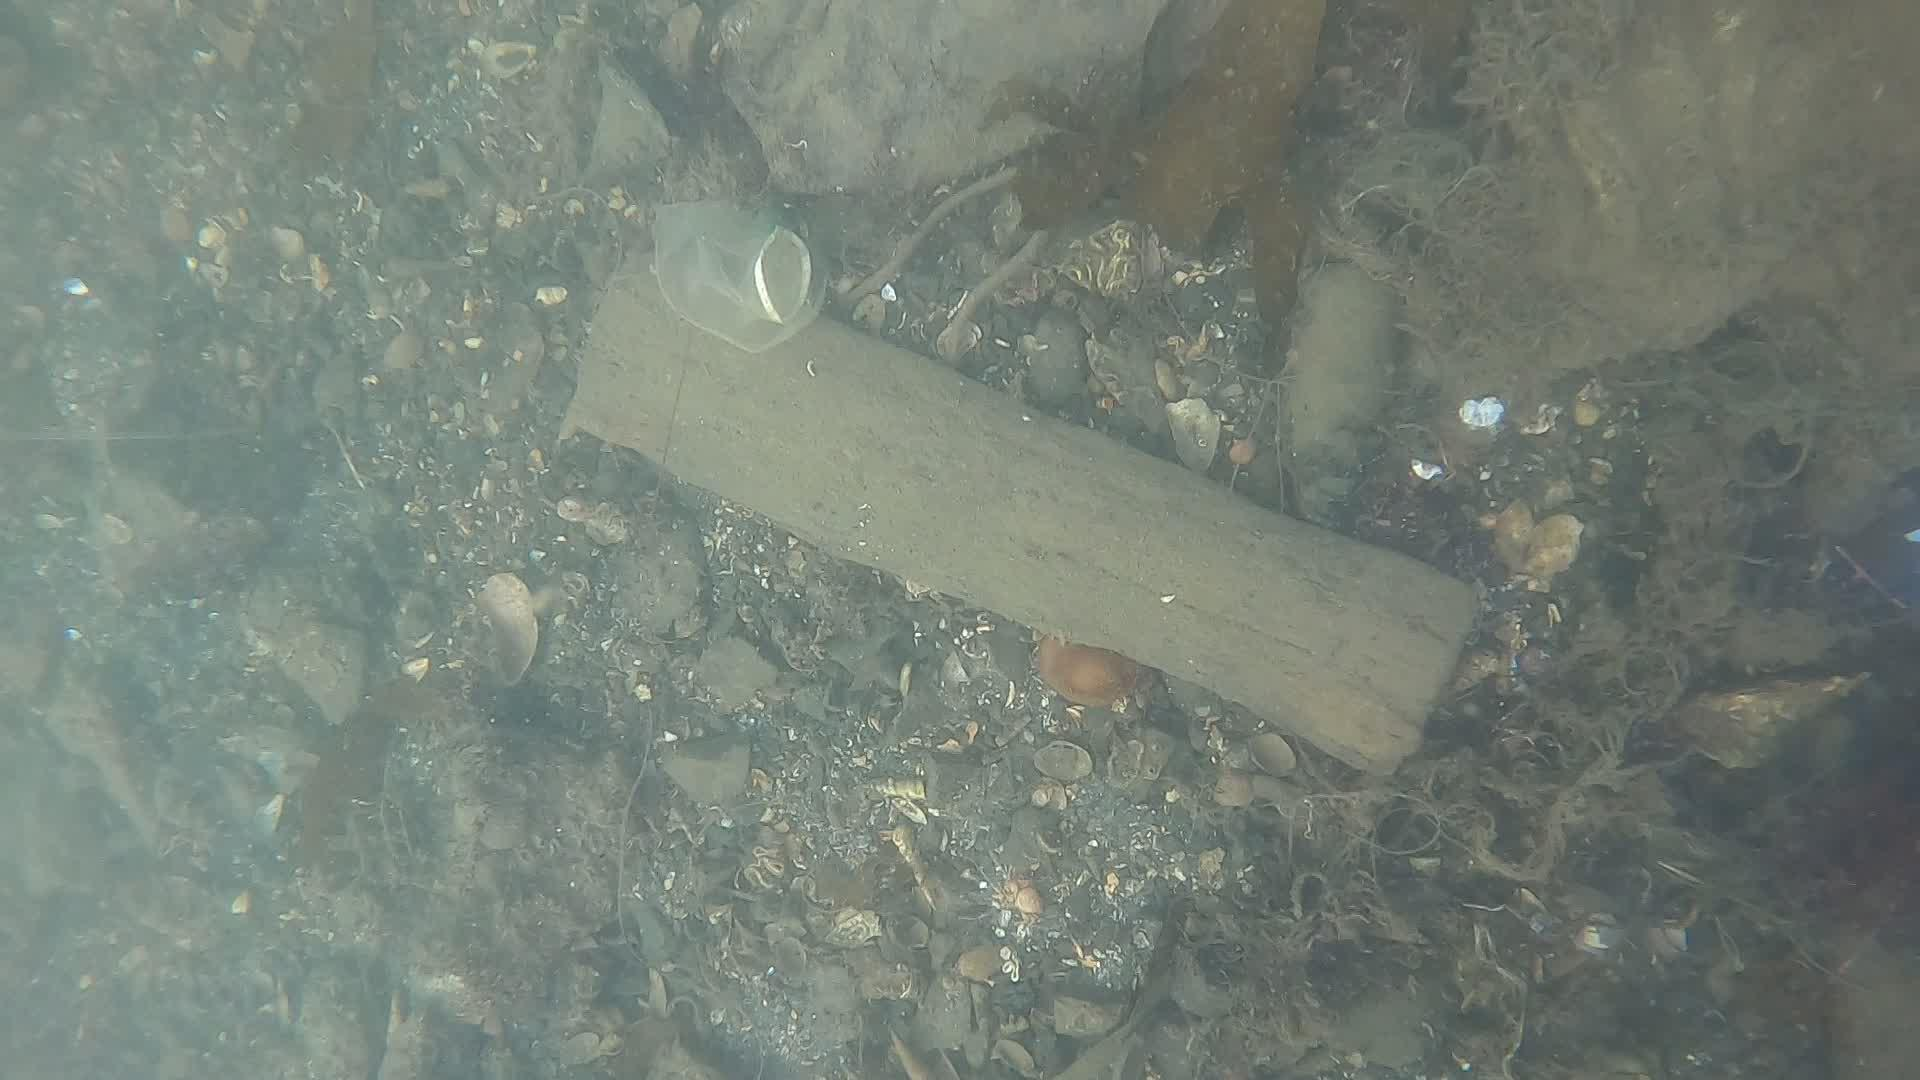wood: (559, 248, 1497, 785)
